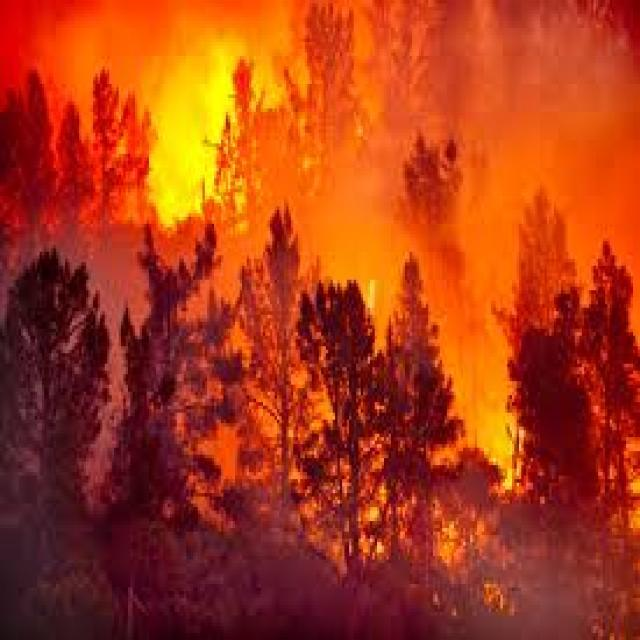Fire: (142, 44, 250, 229), (498, 440, 517, 492), (358, 497, 384, 525), (363, 273, 378, 319)
Smoke: (0, 5, 640, 484), (3, 0, 520, 175)
